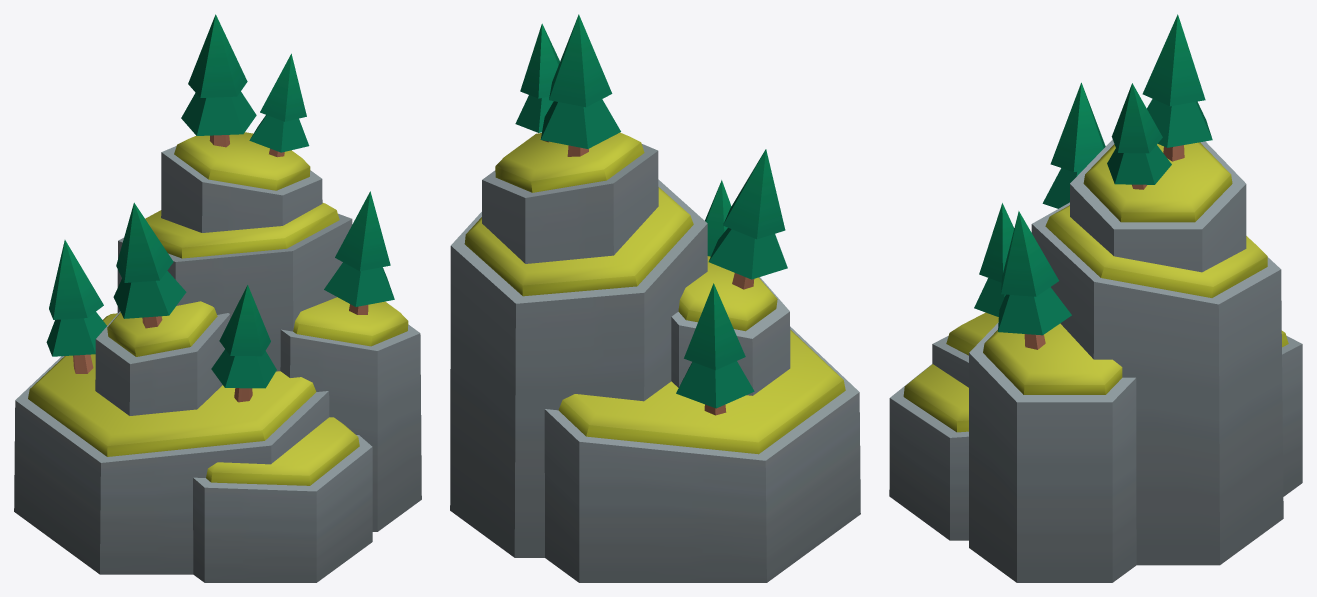
File: mountain_b_grass_trees.glb
3 views of the same model, side by side, from view 1: azimuth 30°, elevation 25°; view 2: azimuth 150°, elevation 25°; view 3: azimuth 270°, elevation 25° (orthographic). The views are drawn at different scales.
Parts seen in each view (by area): view 1: mountain_B_grass_trees; view 2: mountain_B_grass_trees; view 3: mountain_B_grass_trees.
Boxes of the visible parts, x1,y1,x2,y2 form: mountain_B_grass_trees: (14,14,421,582); mountain_B_grass_trees: (450,14,860,582); mountain_B_grass_trees: (889,14,1302,582).
Bounding box in the file's own units: 1.8 × 2.5 × 1.88.
Materials: 1 (1 with a texture image).
